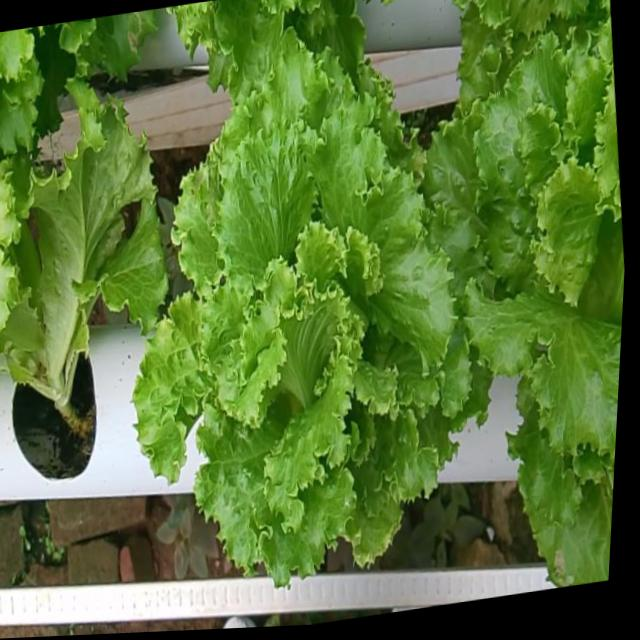Mature: (127, 66, 464, 609), (419, 52, 624, 486)
